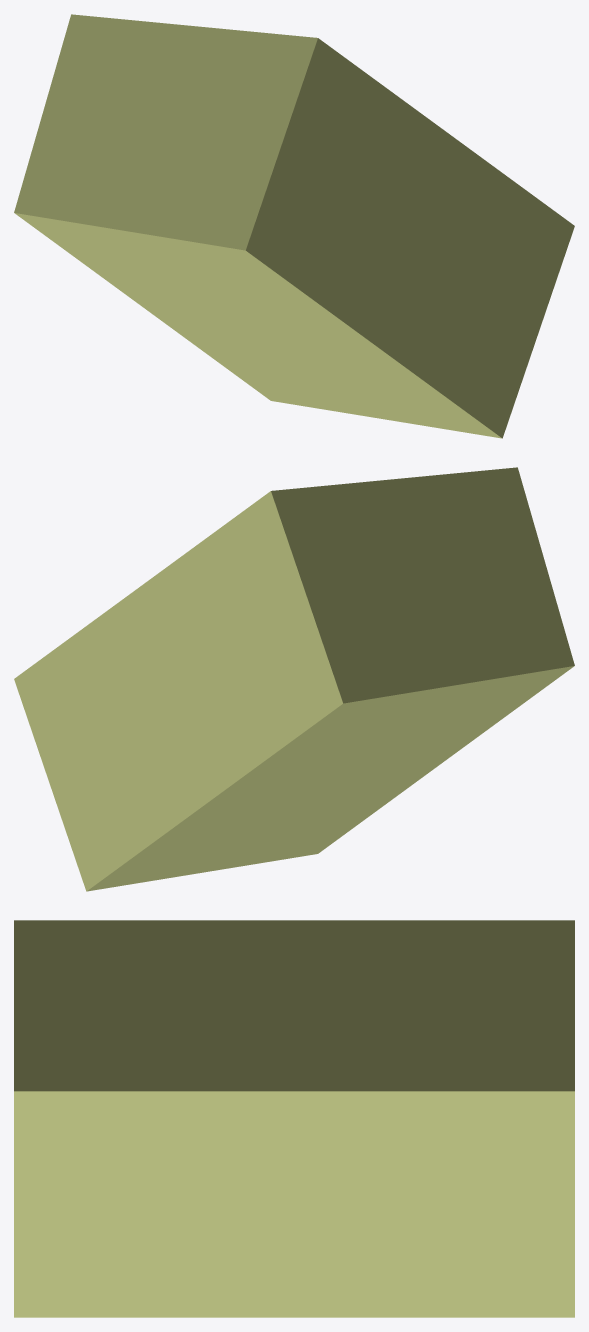
3 views of the same model, one above another, from view 1: azimuth 30°, elevation 25°; view 2: azimuth 150°, elevation 25°; view 3: azimuth 270°, elevation 25° (orthographic). The views are drawn at different scales.
Parts seen in each view (by area): view 1: 0_1_1_3_3_1_0_2_1_2; view 2: 0_1_1_3_3_1_0_2_1_2; view 3: 0_1_1_3_3_1_0_2_1_2.
Boxes of the visible parts, <box> form: 0_1_1_3_3_1_0_2_1_2: <box>14,14,574,438</box>; 0_1_1_3_3_1_0_2_1_2: <box>14,467,574,891</box>; 0_1_1_3_3_1_0_2_1_2: <box>14,920,574,1317</box>.
Bounding box in the file's own units: 4.1 × 3.59 × 6.
